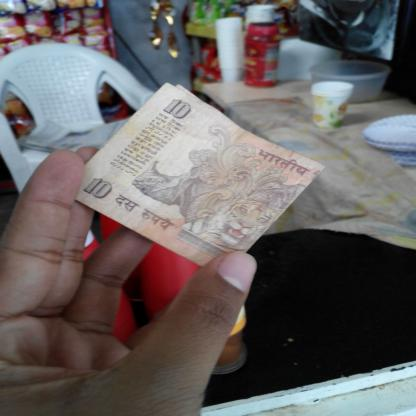Old10Back: (76, 82, 325, 267)
